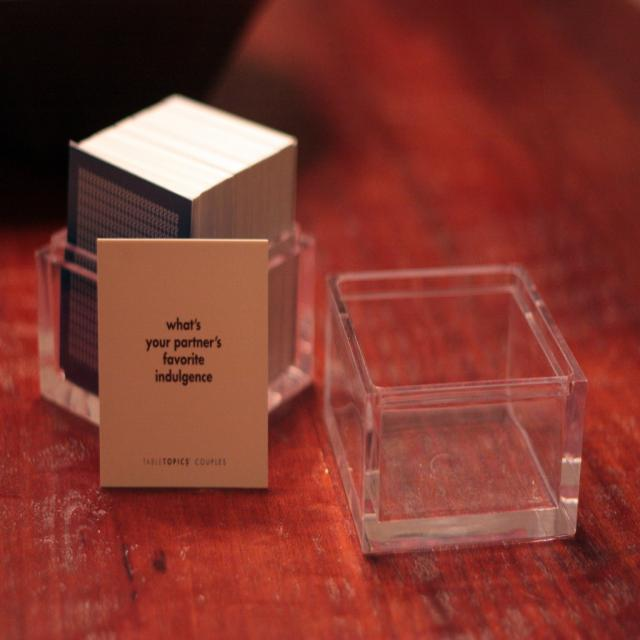Box: (35, 222, 587, 554)
